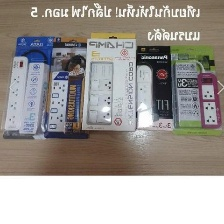book: (0, 32, 61, 142), (79, 29, 139, 133), (40, 34, 96, 141), (169, 43, 223, 137), (132, 42, 175, 133)
three_eye_plug: (2, 53, 32, 133), (83, 59, 118, 127), (45, 69, 71, 135), (196, 70, 224, 130), (135, 62, 156, 129)
